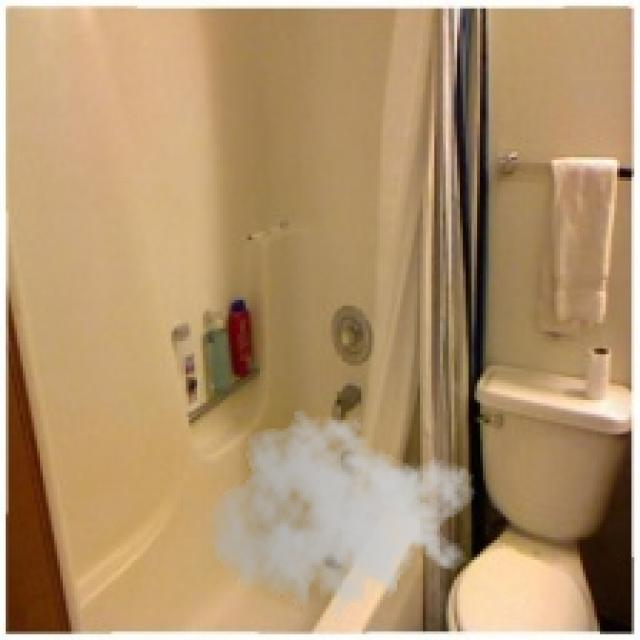smoke: (209, 403, 477, 631)
